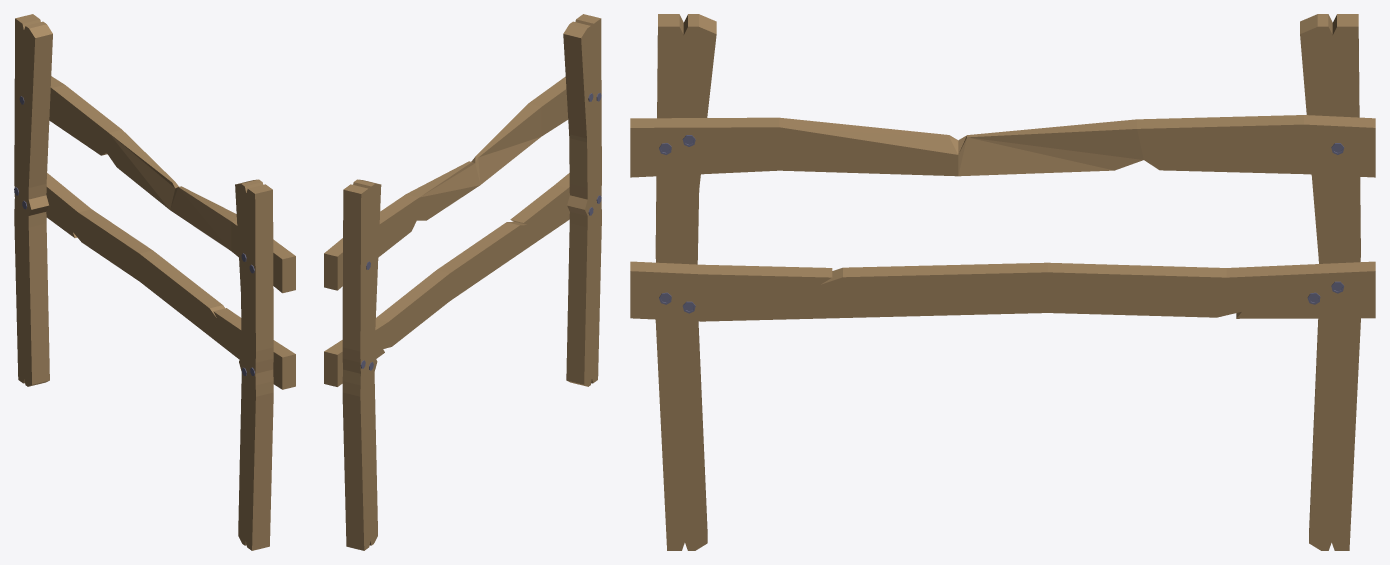
The model's file is Fence1.fbx.
3 renders of one model, left to right at view 1: azimuth 30°, elevation 25°; view 2: azimuth 150°, elevation 25°; view 3: azimuth 270°, elevation 25°, orthographic. The views are drawn at different scales.
Parts seen in each view (by area): view 1: pCube13; view 2: pCube13; view 3: pCube13.
Boxes of the visible parts, x1,y1,x2,y2 form: pCube13: [14, 14, 295, 550]; pCube13: [324, 14, 601, 550]; pCube13: [630, 14, 1375, 550].
Bounding box in the file's own units: 0.436 × 4.54 × 5.85.
